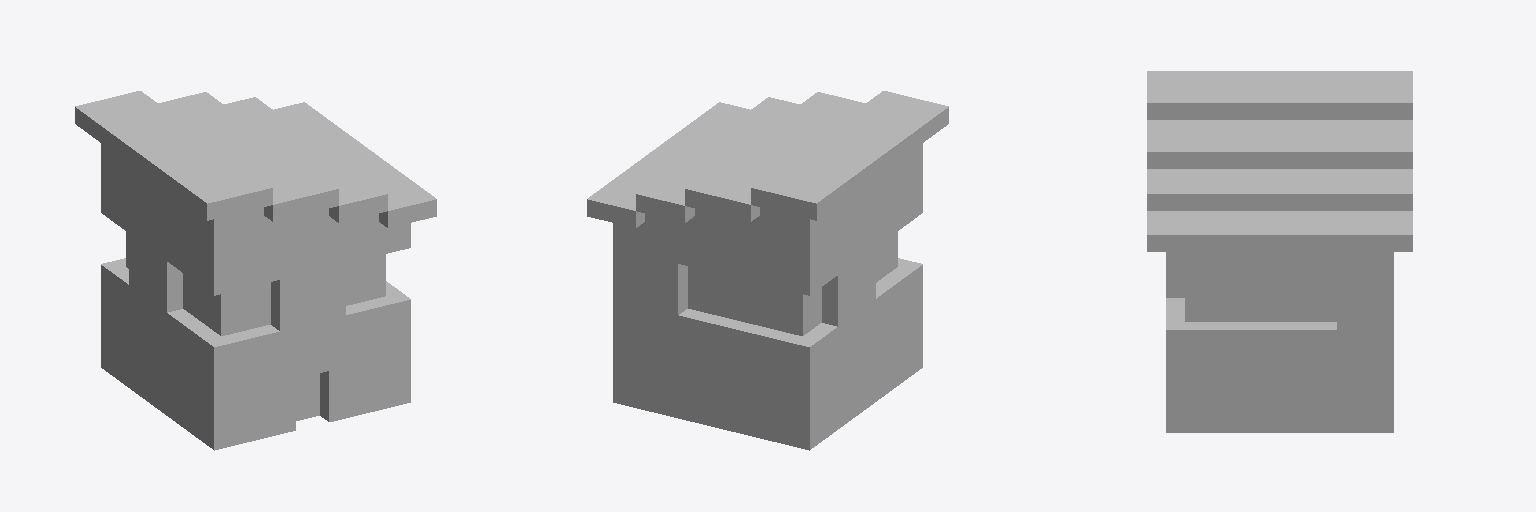
Rendered from Casa.obj.
The picture shows the model from 3 angles: view 1: azimuth 30°, elevation 25°; view 2: azimuth 150°, elevation 25°; view 3: azimuth 270°, elevation 25°; orthographic projection.
Parts seen in each view (by area): view 1: object 1; view 2: object 1; view 3: object 1.
Part boxes in pixels (left/top/right/bottom): object 1: left=75, top=91, right=436, bottom=450; object 1: left=587, top=91, right=948, bottom=450; object 1: left=1147, top=71, right=1412, bottom=432.
Size of the model in its own units: 1.4 by 1.5 by 1.4.